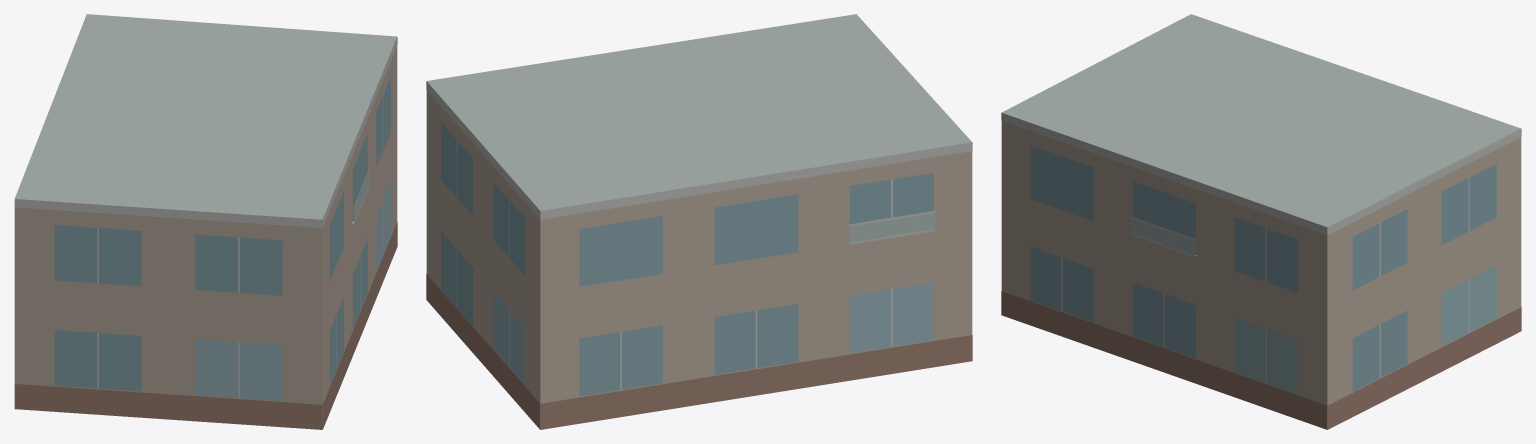
The model's file is survey-upis-32705418.glb.
3 renders of one model, left to right at view 1: azimuth 30°, elevation 25°; view 2: azimuth 150°, elevation 25°; view 3: azimuth 270°, elevation 25°, orthographic. The views are drawn at different scales.
Visible parts, largest first — view 1: survey-upis-32705418.tmp; view 2: survey-upis-32705418.tmp; view 3: survey-upis-32705418.tmp.
Part boxes in pixels (bbox=[...]): survey-upis-32705418.tmp: bbox=[14, 14, 397, 429]; survey-upis-32705418.tmp: bbox=[426, 14, 972, 429]; survey-upis-32705418.tmp: bbox=[1001, 14, 1521, 429].
Size of the model in its own units: 13.79 by 6.1 by 14.2.
